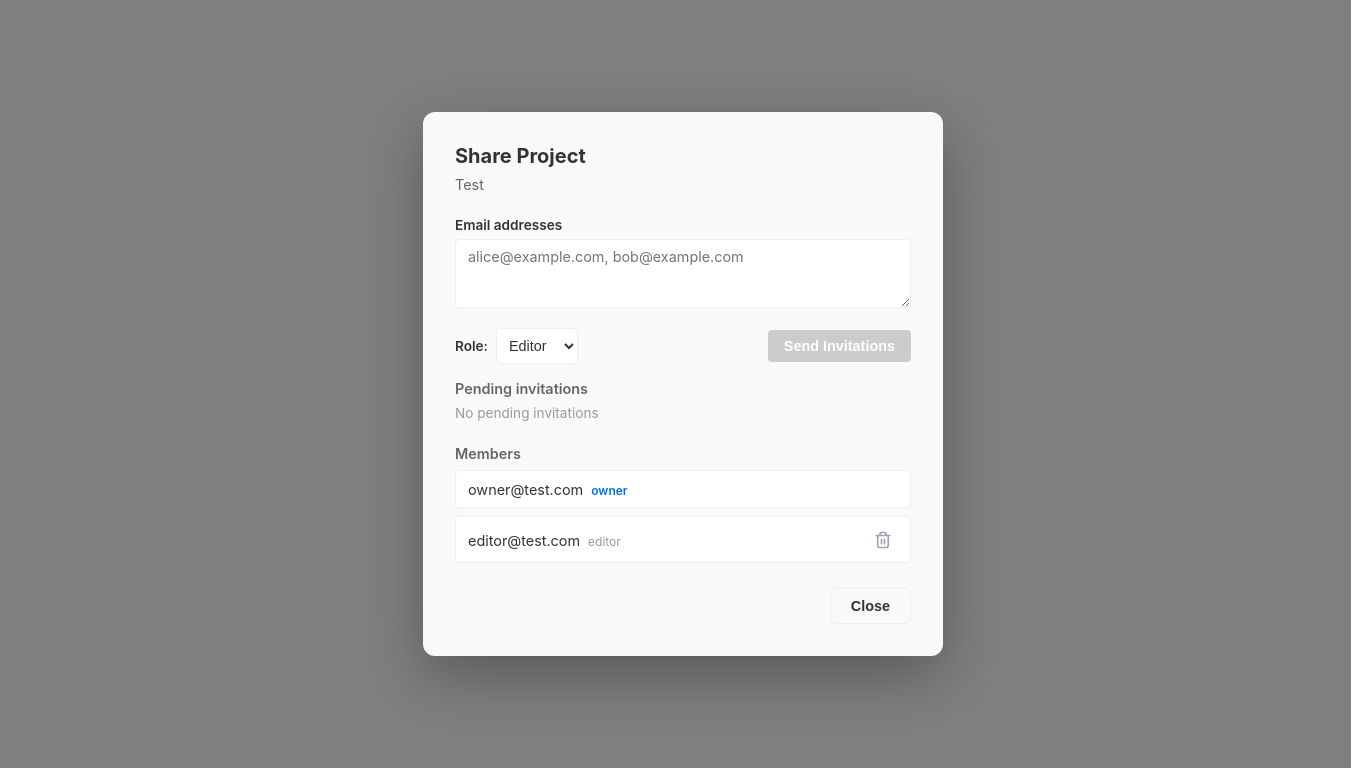
Test: ShareDialog › removing a member › shows the reason when removing the member fails
Click the button named "Remove member". click: (883, 540)
box: [869, 525, 898, 554]
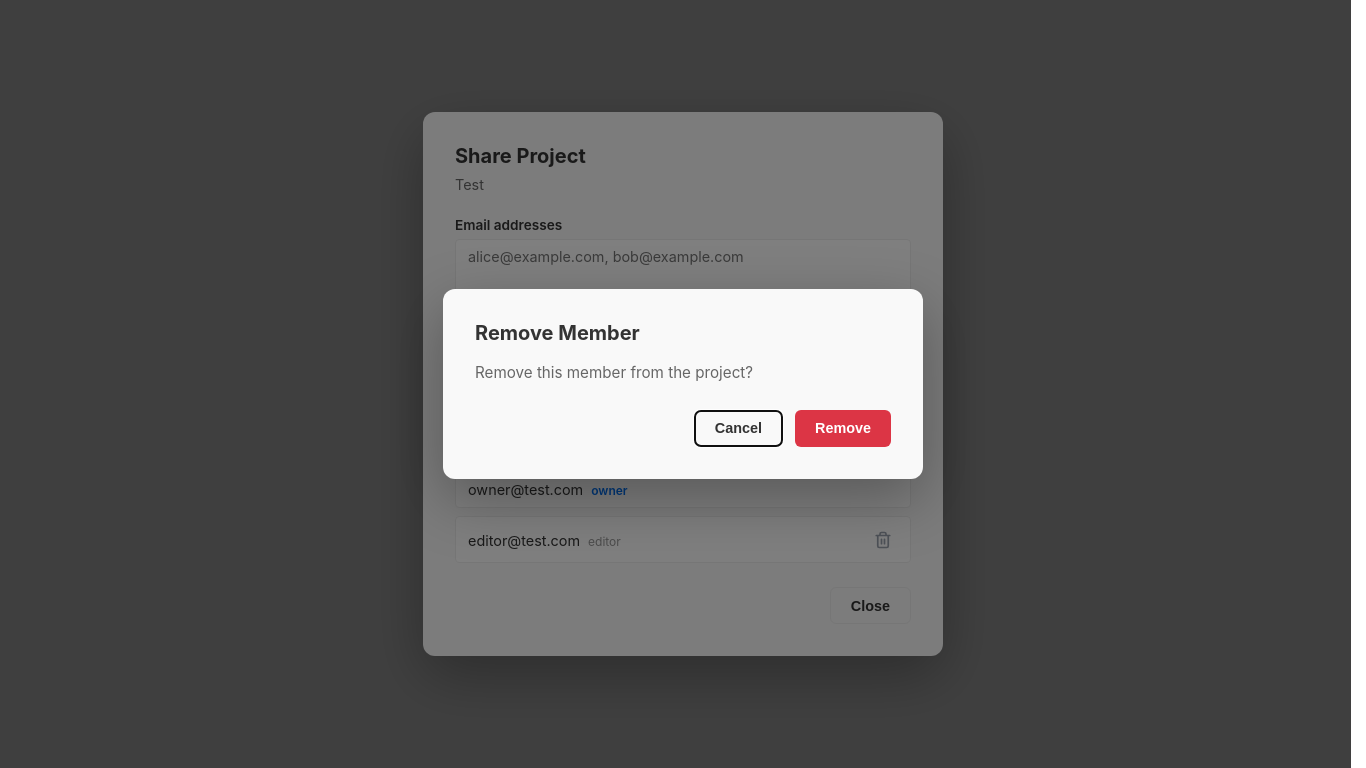
Click the button "Remove". click: (843, 428)
box: [795, 410, 891, 447]
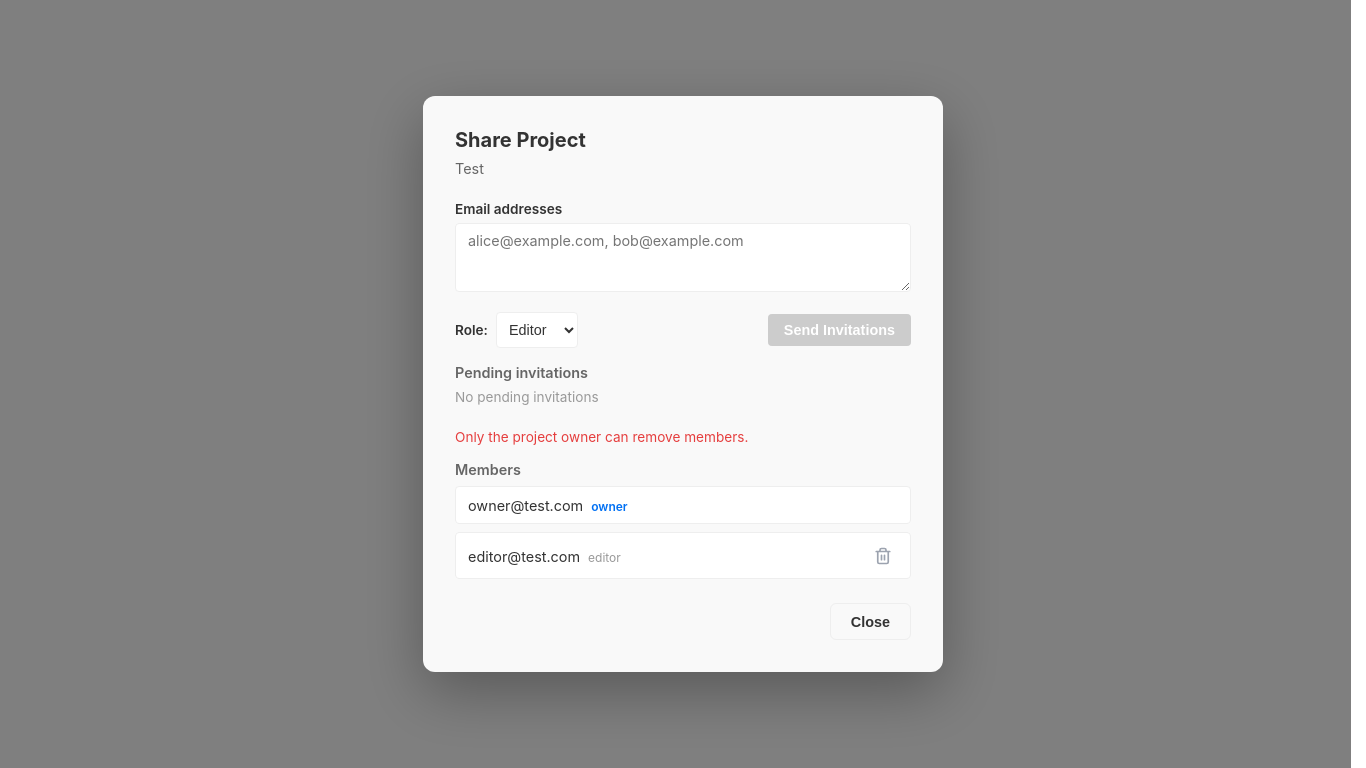
Expected: the text "editor@test.com" is shown, [468, 548, 580, 565]
Result: the text "Only the project owner can remove members." is shown at [455, 429, 748, 445]
